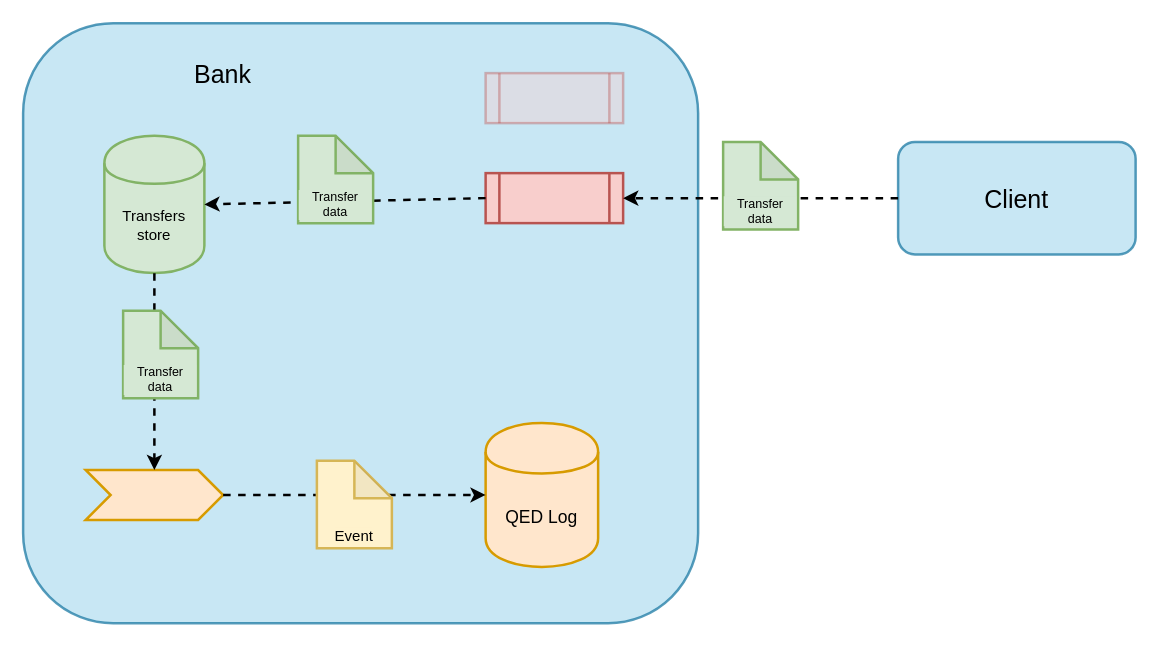
Image size: 1158x655. Some labels were removed from this diagram. The shapes that lost their labels are listed below. From the top down, each one's box as (x1, y1, x2, y2) in pixels, then its label:
(484, 71, 624, 124): Transfers query service
(484, 171, 624, 224): Transfers write service
(84, 468, 224, 521): Mapping function
